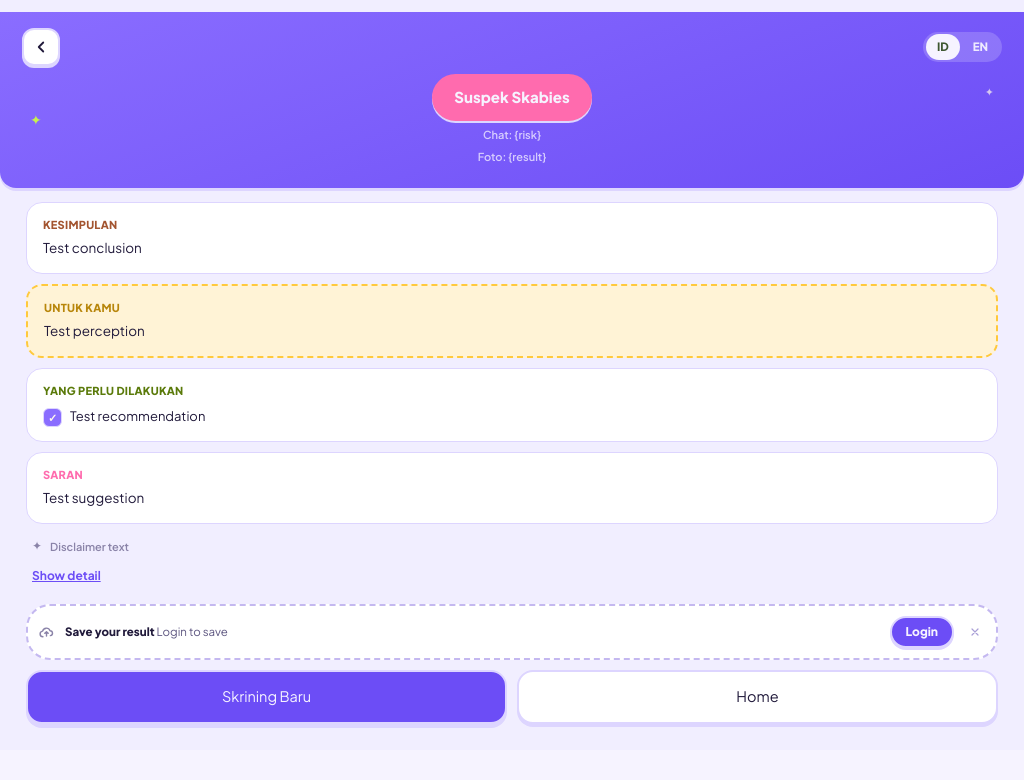
Test: ResultScreen › visual detection card display › displays Visual_Result when detail panel is open (Req 11.2)
The width and height of the screenshot is (1024, 780).
Open detail panel first
Click the button "Show detail" at (66, 576), box [26,568,107,584]
(page scrolled)
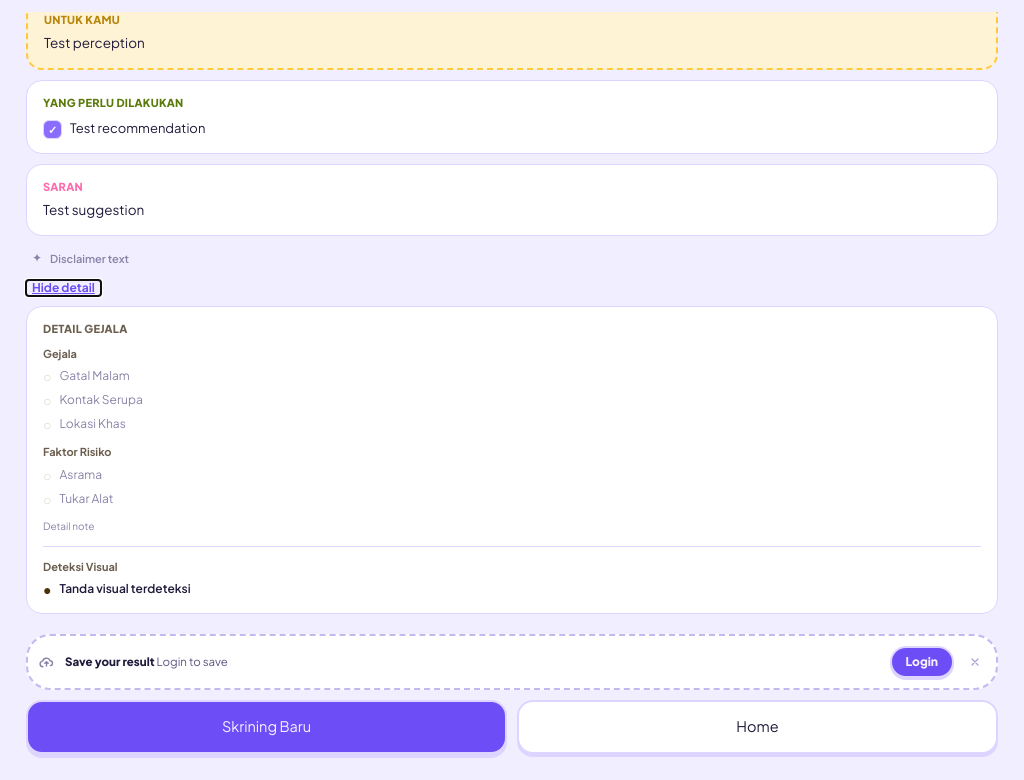
Check: the text "Tanda visual terdeteksi" is shown, box [60,580,191,598]
